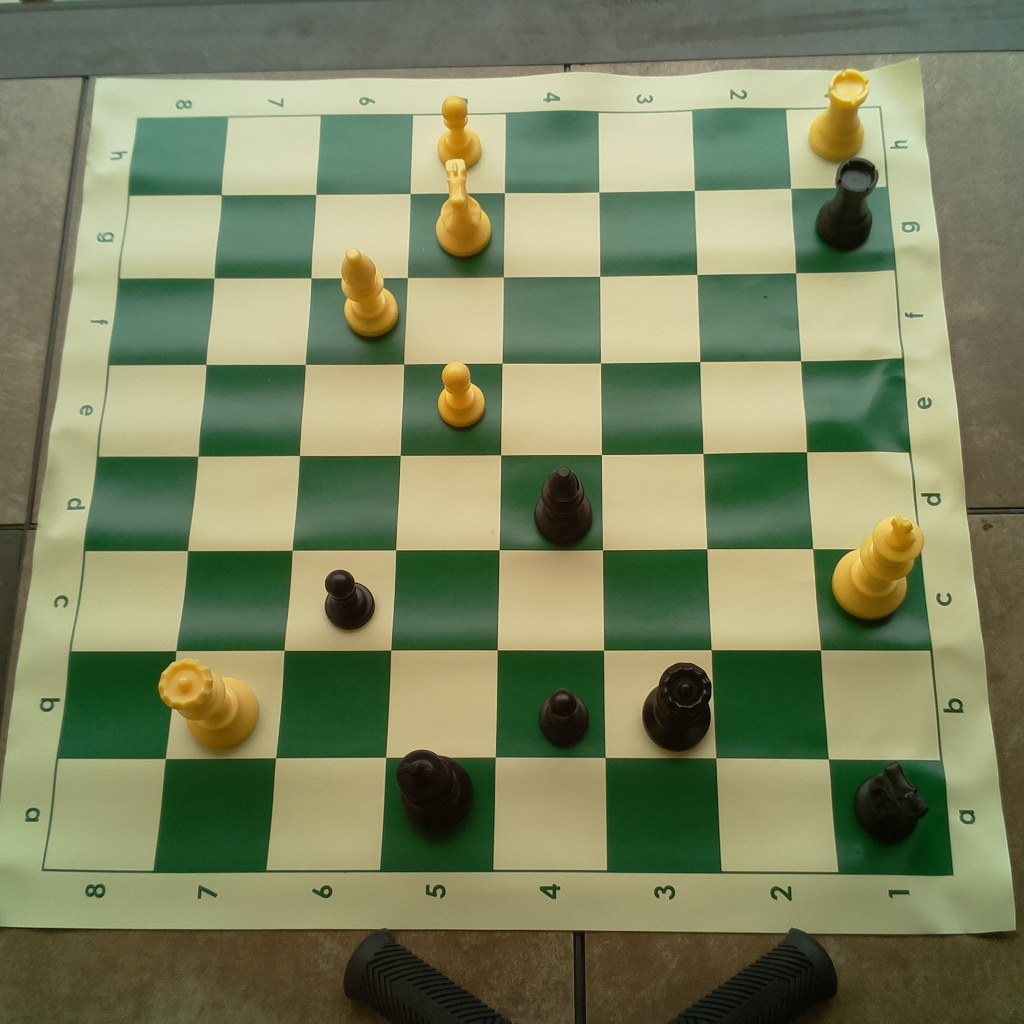black_bishop: (531, 461, 594, 547)
black_king: (392, 744, 479, 834)
black_knight: (853, 758, 931, 844)
black_pawn: (537, 680, 594, 753), (320, 564, 377, 630)
black_queen: (640, 657, 714, 757)
black_rook: (815, 156, 885, 253)
file_a: (44, 758, 955, 878)
file_b: (58, 652, 944, 760)
file_c: (72, 552, 934, 648)
file_d: (88, 452, 919, 549)
file_e: (97, 356, 908, 449)
file_f: (110, 269, 902, 358)
file_g: (121, 187, 898, 282)
file_h: (129, 106, 889, 186)
outline: (40, 106, 955, 878)
rank_1: (786, 106, 953, 875)
rank_2: (693, 108, 840, 871)
rank_3: (597, 110, 723, 873)
rank_4: (492, 112, 605, 871)
rank_5: (380, 114, 505, 874)
rank_6: (266, 117, 412, 873)
rank_7: (151, 119, 321, 874)
rank_8: (42, 117, 227, 871)
white_bishop: (337, 244, 403, 340)
white_king: (823, 510, 923, 621)
white_knight: (425, 151, 496, 261)
white_pawn: (432, 362, 490, 427), (436, 95, 483, 174)
white_queen: (150, 656, 264, 752)
white_rook: (812, 65, 873, 160)
